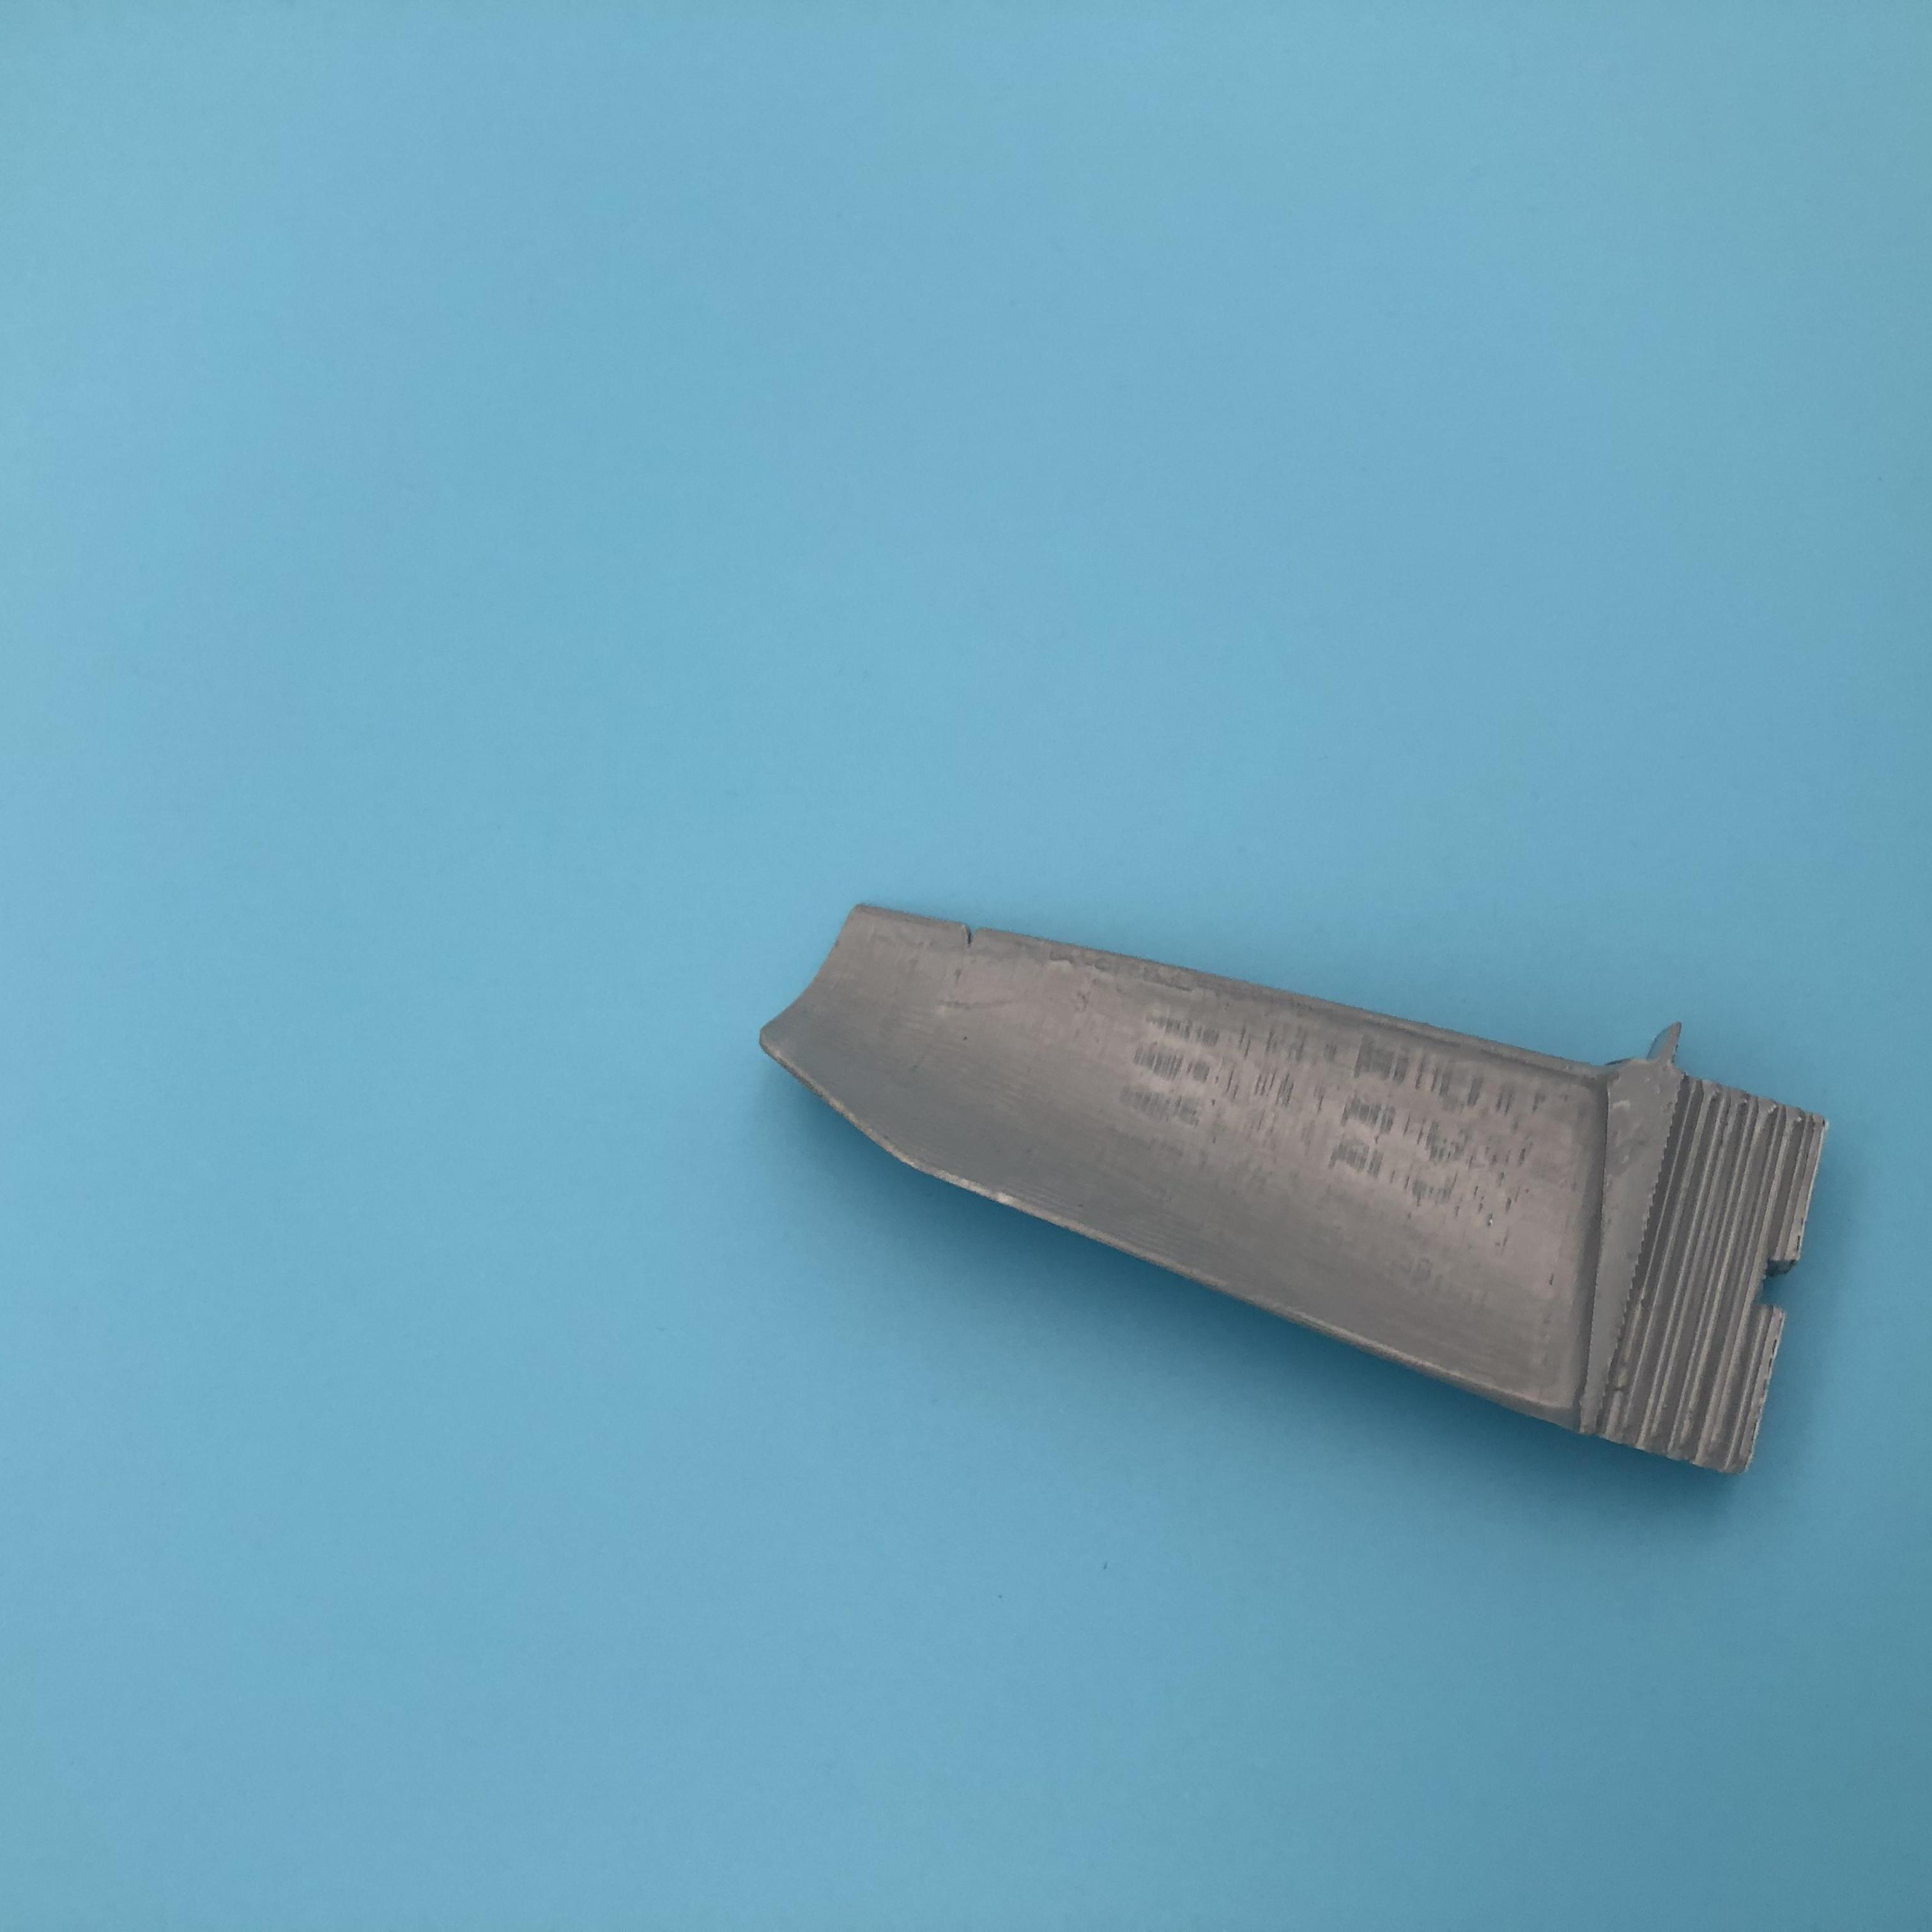groove: (952, 924, 1003, 954)
